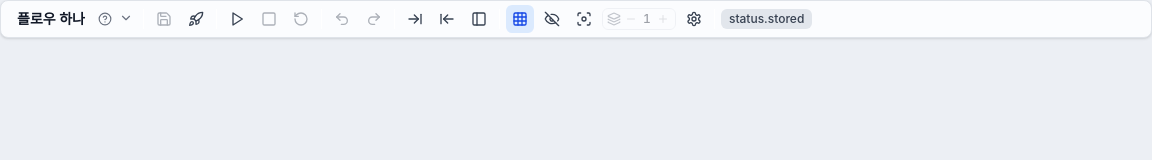
EditorToolbar - 플로우 타이틀 / 전환 선택기 › 도움말(?) 클릭 시 설명 팝오버를 보여준다
The image size is (1152, 160).
Click the button named "property.fieldHelp.viewDescription": (105, 19) [97, 11, 113, 27]
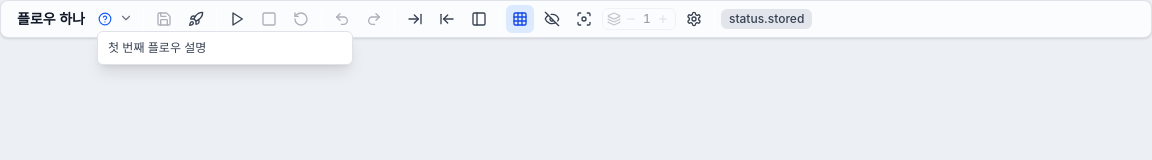
Now the tooltip reads "첫 번째 플로우 설명", box [108, 40, 206, 55]
